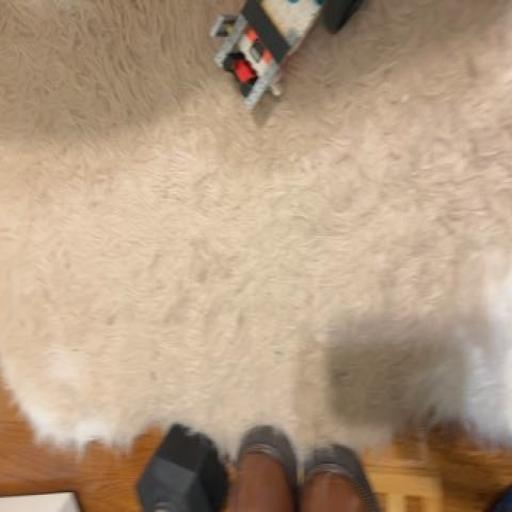Opponent: (211, 0, 361, 117)
